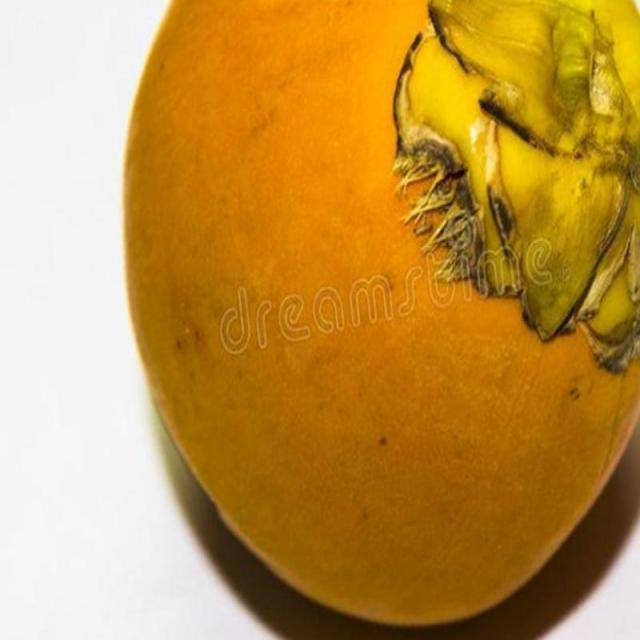good: (121, 0, 639, 632)
